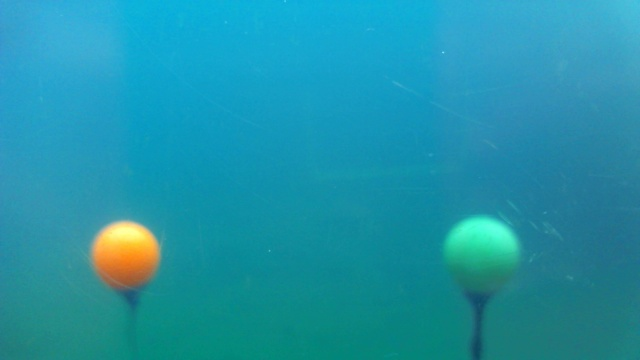buoy_green: (441, 209, 523, 315)
buoy_red: (92, 220, 160, 298)
